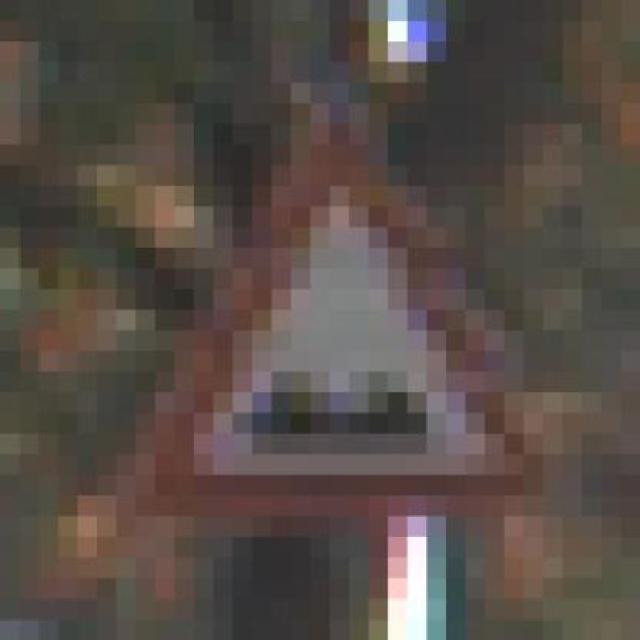Uneven Road: (116, 62, 544, 516)
